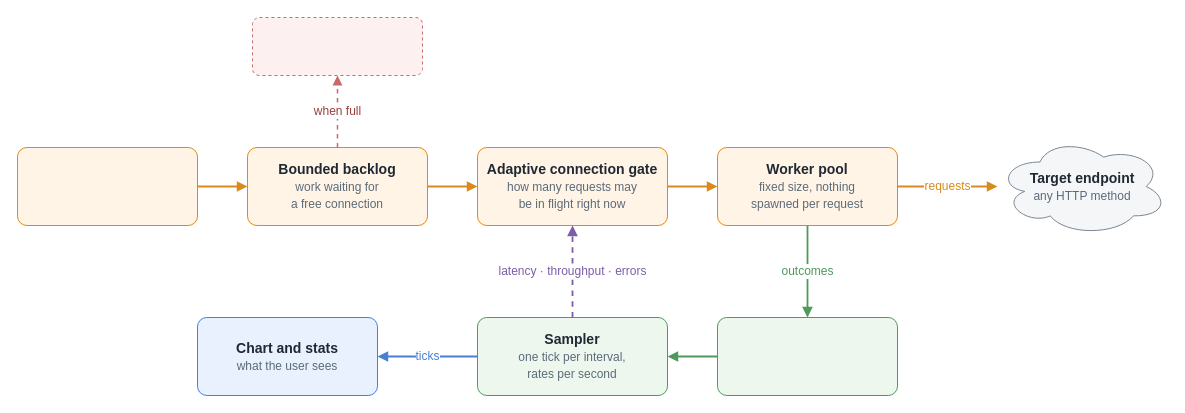
Image size: 1185x413. Some labels were removed from this diagram. Here are the shapes that lost their labels. From the top down, the centre of each, then its label:
At point (337, 46): "Shed counted, never queued forever".
At point (107, 186): "Rate pacer releases requests at the target rate, never waits".
At point (807, 356): "Outcome counters sent · succeeded · failed shed · latency".
